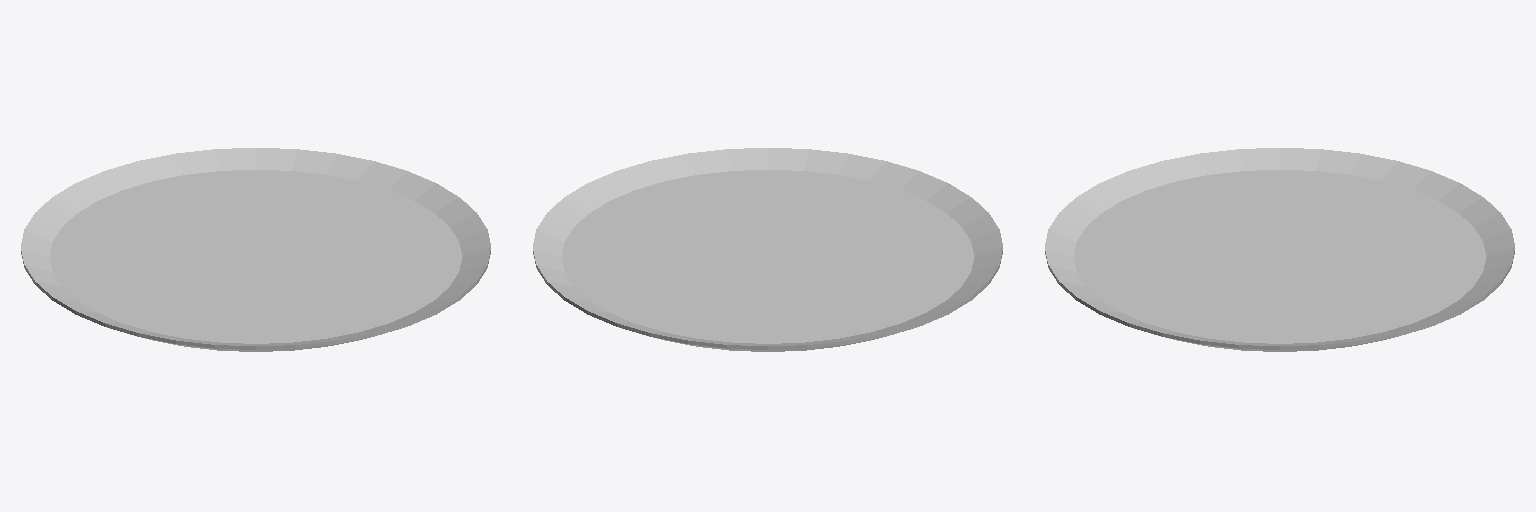
The picture shows the model from 3 angles: view 1: azimuth 30°, elevation 25°; view 2: azimuth 150°, elevation 25°; view 3: azimuth 270°, elevation 25°; orthographic projection.
Parts seen in each view (by area): view 1: dish_Cylinder.028; view 2: dish_Cylinder.028; view 3: dish_Cylinder.028.
Boxes of the visible parts, x1=… form: dish_Cylinder.028: x1=21, y1=148, x2=490, y2=351; dish_Cylinder.028: x1=533, y1=148, x2=1002, y2=351; dish_Cylinder.028: x1=1045, y1=148, x2=1514, y2=351.
Size of the model in its own units: 2.4 by 0.1008 by 2.4.